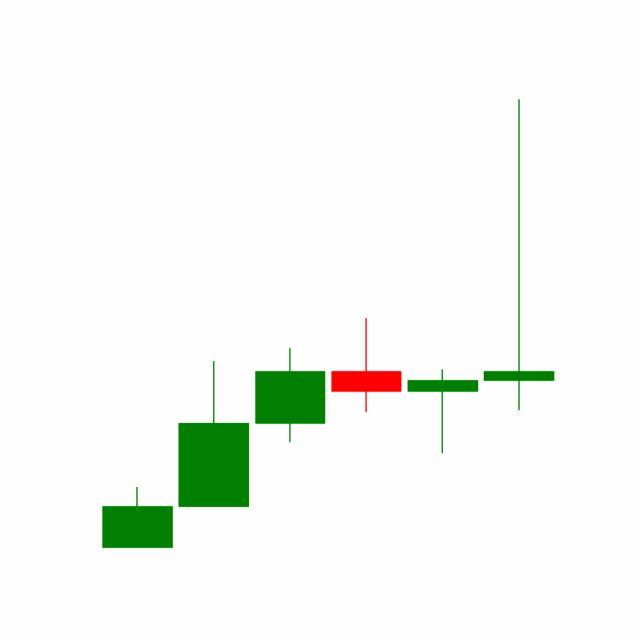Spinning Top: (404, 368, 482, 455)
